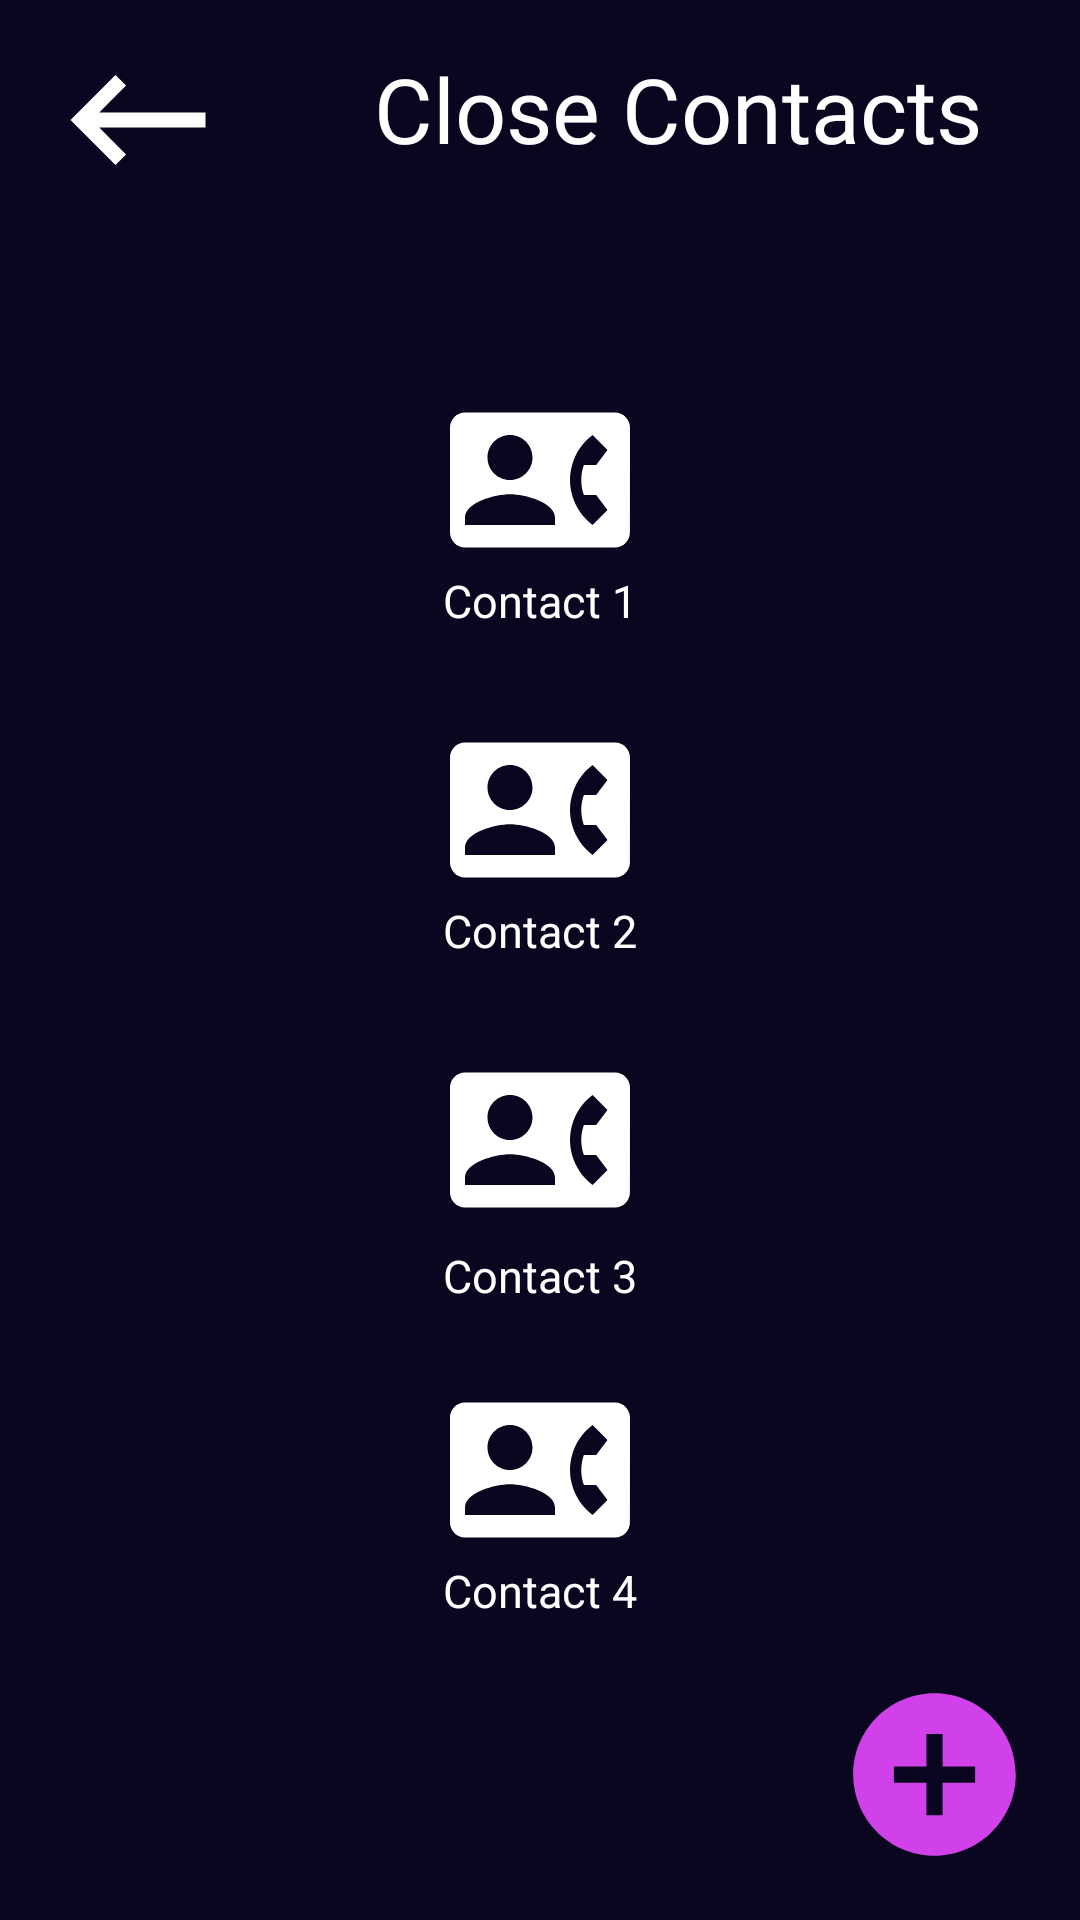

Where to tap for icons on this 1080w x 1920h app screen, as (x,y):
addcont: (934,1774)
keyboard backspace: (138,120)
profile: (540,480), (540,810), (540,1140), (540,1470)
